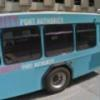buses: (0, 11, 100, 100)
